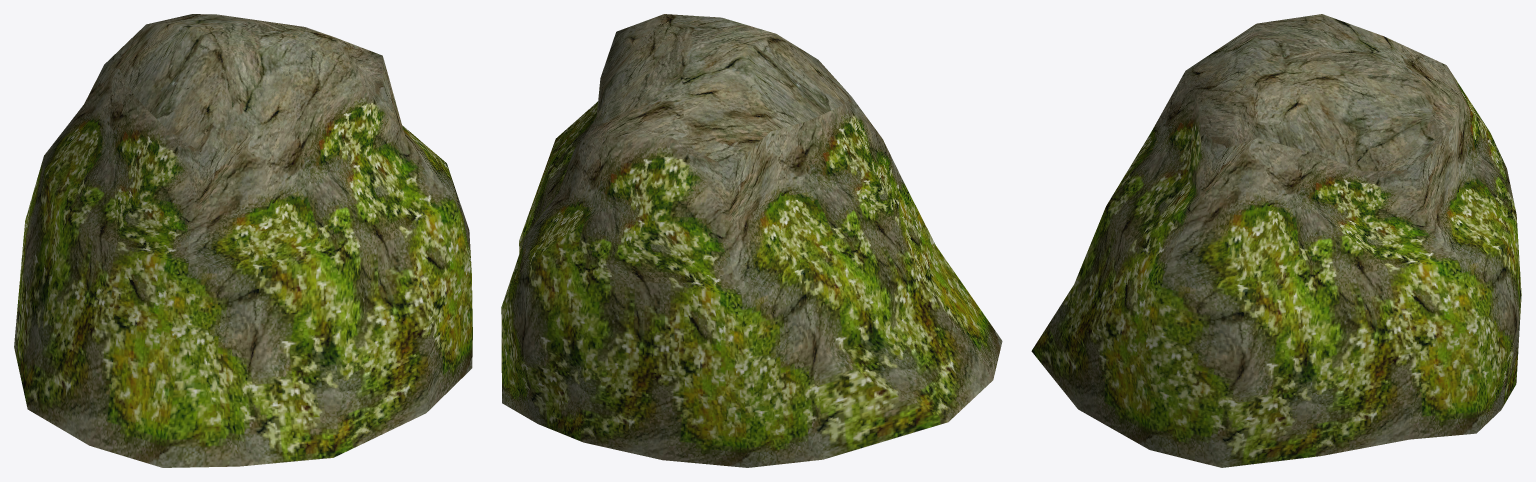
The model's file is rock_liaaba_covered_a1_l0.fbx.
3 renders of one model, left to right at view 1: azimuth 30°, elevation 25°; view 2: azimuth 150°, elevation 25°; view 3: azimuth 270°, elevation 25°, orthographic. The views are drawn at different scales.
Visible parts, largest first — view 1: mesh_node; view 2: mesh_node; view 3: mesh_node.
Boxes of the visible parts, x1,y1,x2,y2 form: mesh_node: (14,14,472,467); mesh_node: (501,14,1002,467); mesh_node: (1031,14,1521,467).
Bounding box in the file's own units: 4.33 × 3.23 × 4.24.
